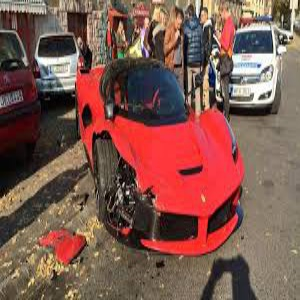bumper: (108, 181, 178, 252)
